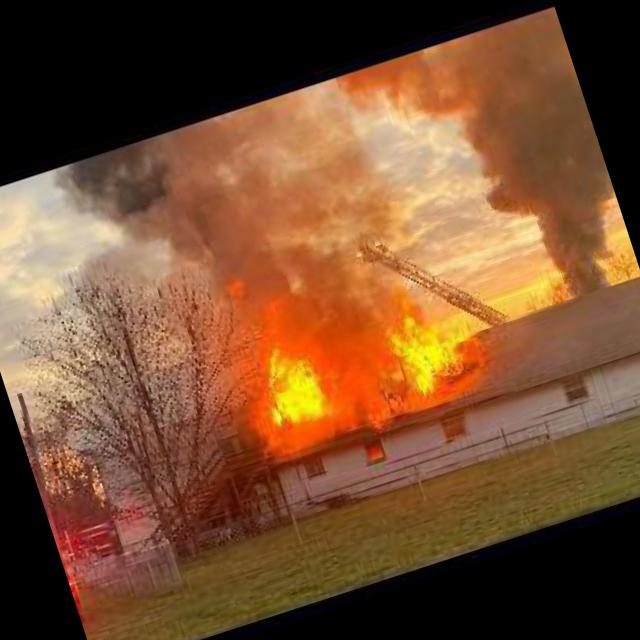fire: (216, 237, 496, 461)
smoke: (411, 4, 640, 317), (195, 70, 420, 336), (42, 122, 236, 314), (223, 275, 250, 306)
